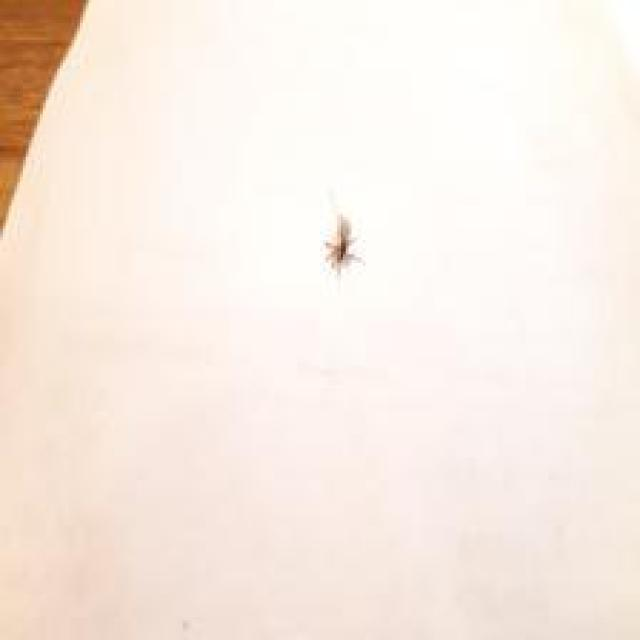Culex: (323, 212, 363, 274)
